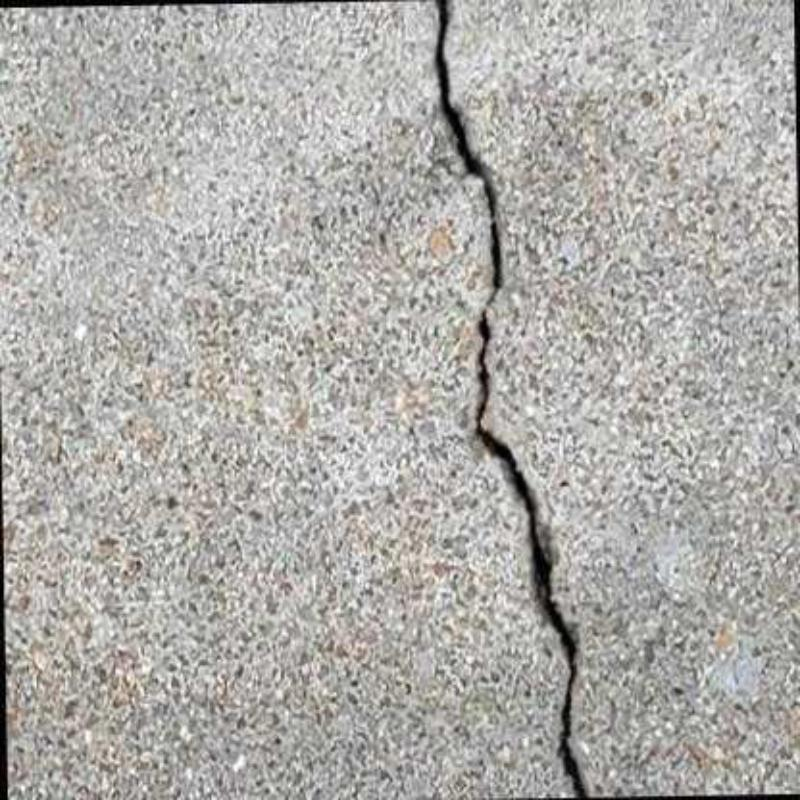crack: (428, 5, 594, 797)
